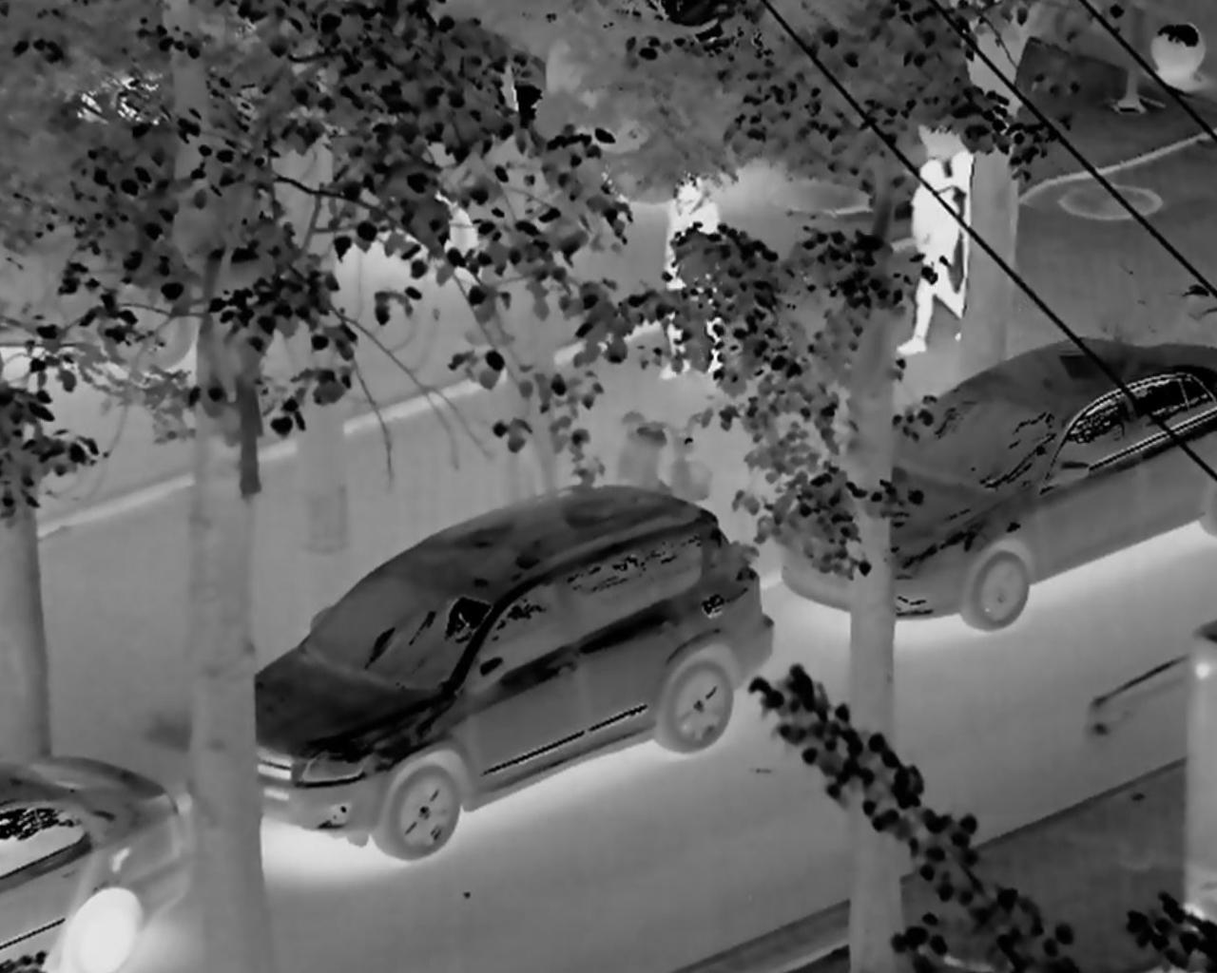person: (647, 154, 750, 386), (893, 135, 951, 353)
